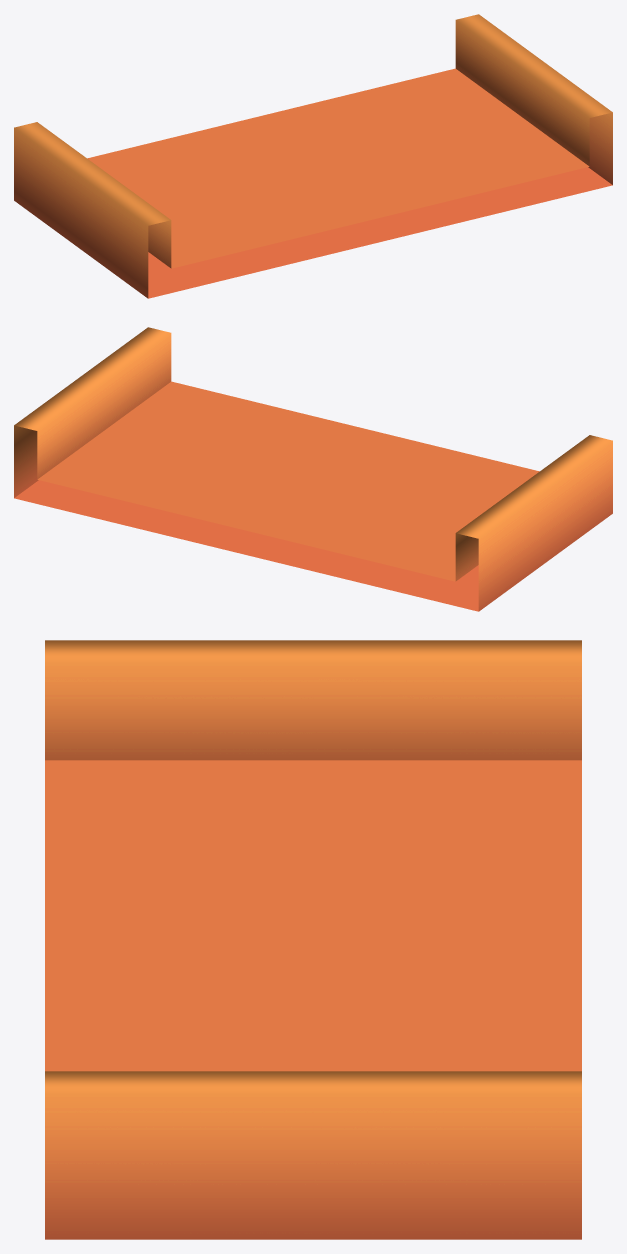
Rendered from track-wide.glb.
3 renders of one model, top to bottom at view 1: azimuth 30°, elevation 25°; view 2: azimuth 150°, elevation 25°; view 3: azimuth 270°, elevation 25°, orthographic. The views are drawn at different scales.
Visible parts, largest first — view 1: track-wide; view 2: track-wide; view 3: track-wide.
Boxes of the visible parts, x1,y1,x2,y2 form: track-wide: (14,14,612,298); track-wide: (14,327,612,611); track-wide: (45,640,581,1239).
Bounding box in the file's own units: 2 × 0.3 × 1.
Materials: 1 (1 with a texture image).
